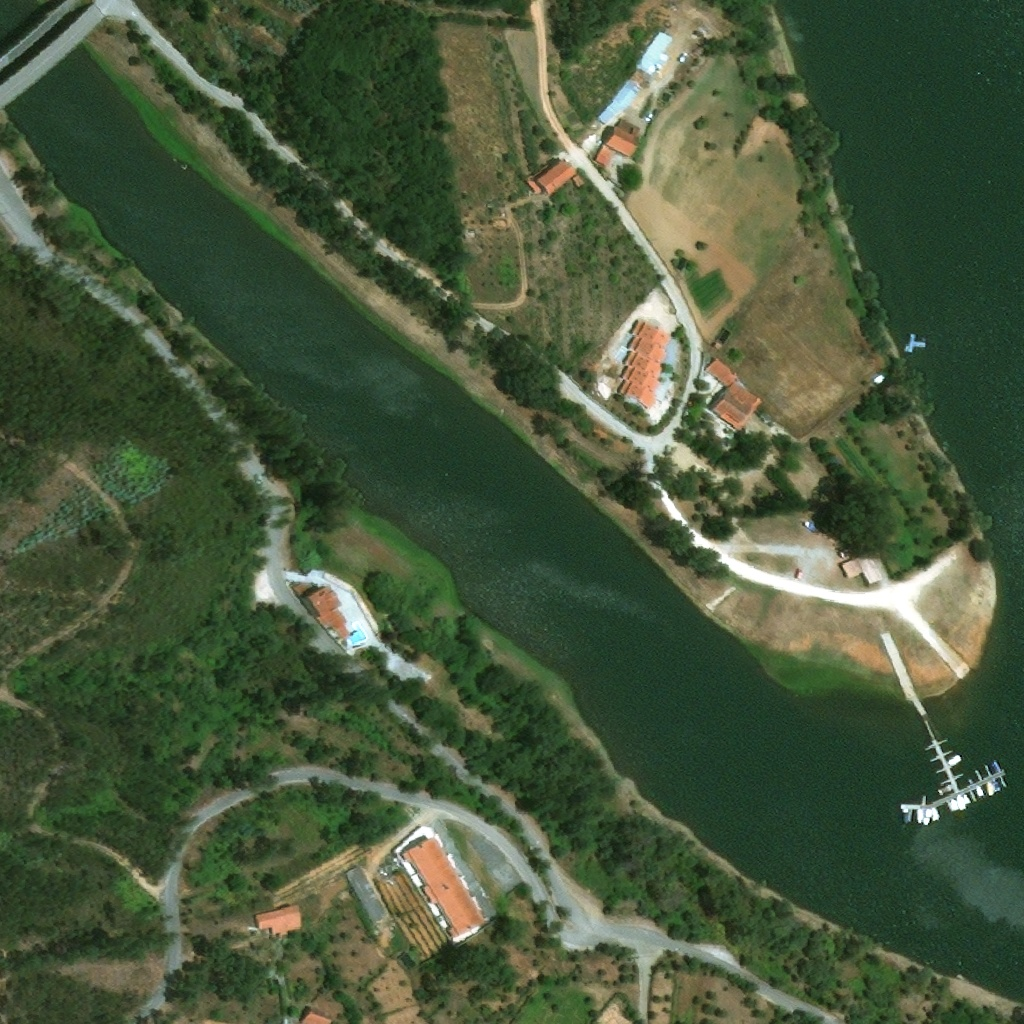0 no-damage: (397, 834, 487, 942), (617, 317, 673, 411), (703, 357, 764, 432), (287, 580, 354, 648), (343, 864, 391, 928), (593, 117, 643, 170), (840, 545, 894, 590), (598, 77, 643, 125), (526, 159, 585, 194), (635, 29, 674, 73), (254, 903, 303, 937), (300, 1006, 332, 1023)
4 un-classified: (884, 379, 927, 398)
